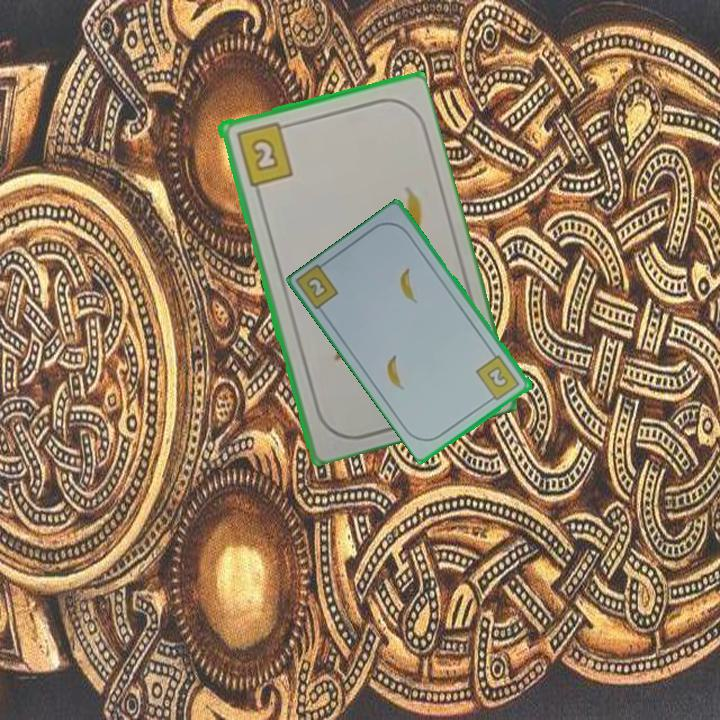2b: (232, 118, 296, 189), (473, 352, 523, 405), (303, 273, 331, 302)
